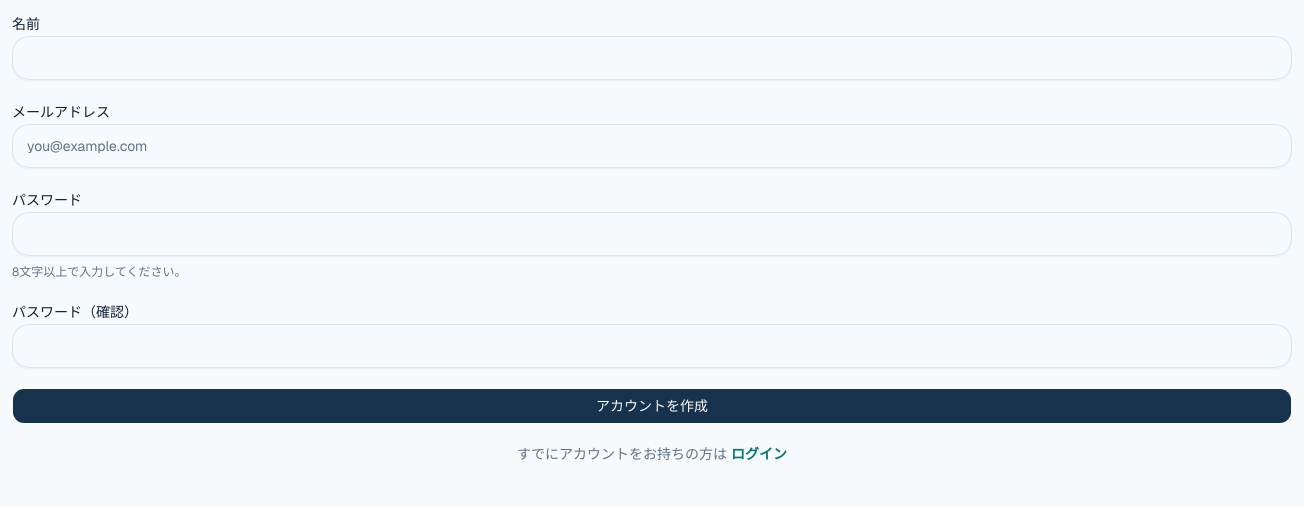
Test: RegisterForm › APIがバリデーションエラーを返した場合_フォームへエラーを表示すること
Type "Test User" into the field labelled "名前" at (652,58), box [12,36,1292,80]
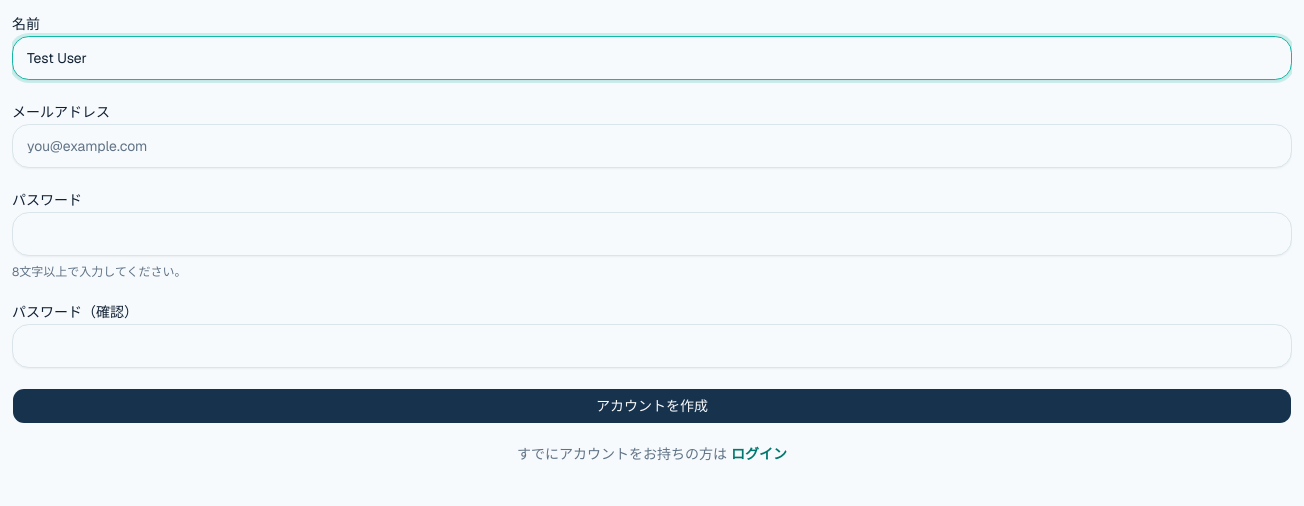
Type "user@example.com" into the field labelled "メールアドレス" at (652,146), box [12,124,1292,168]
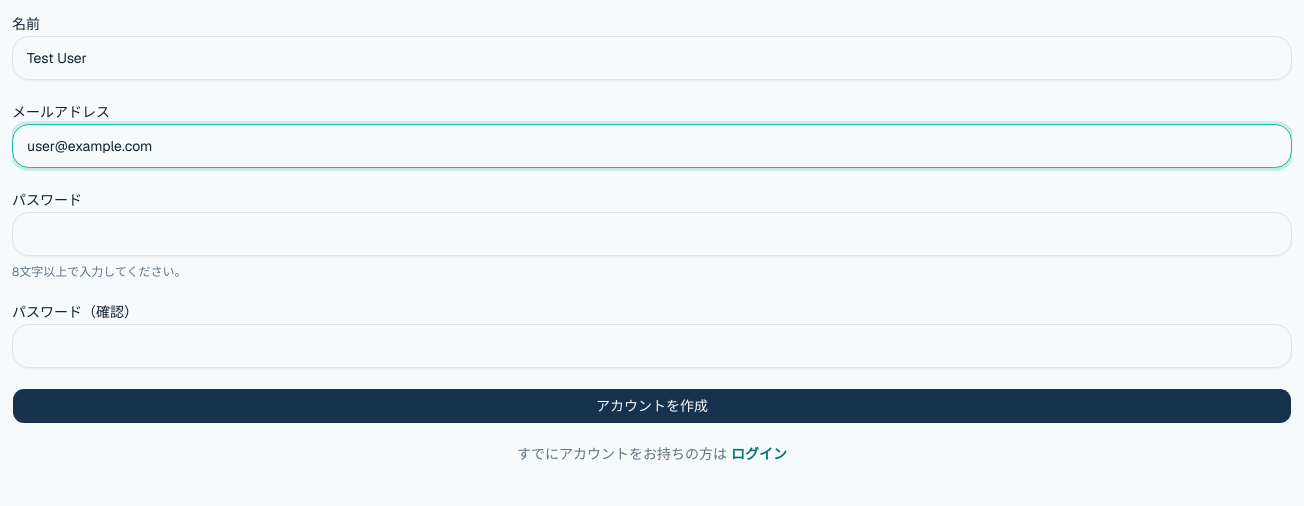
Type "password123" into the password field labelled "パスワード" at (652,234), box [12,212,1292,256]
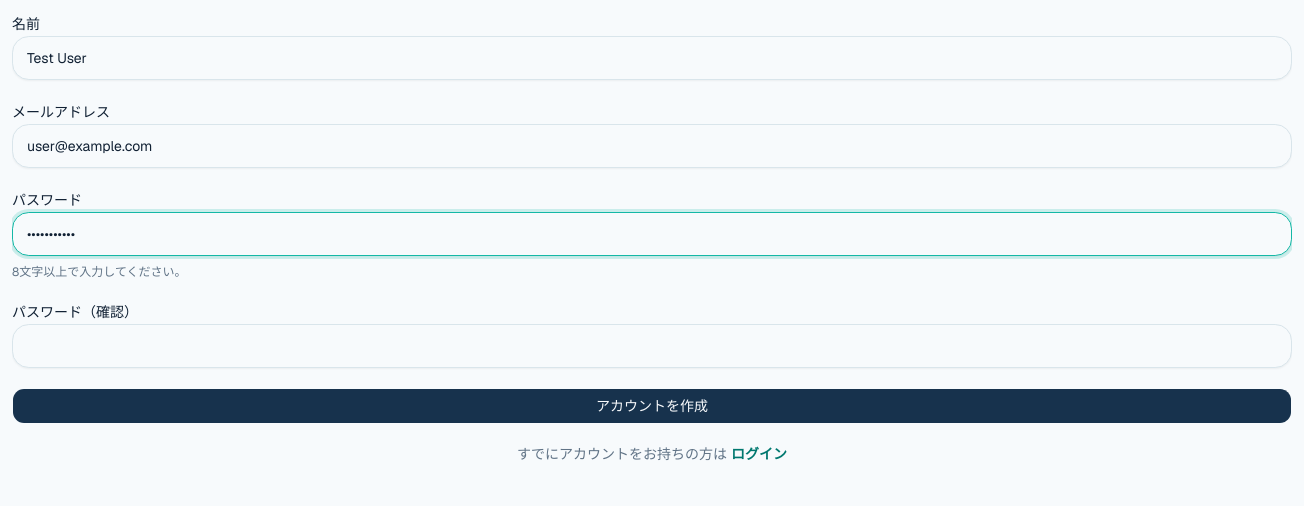
Type "password123" into the password field labelled "パスワード（確認）" at (652,346), box [12,324,1292,368]
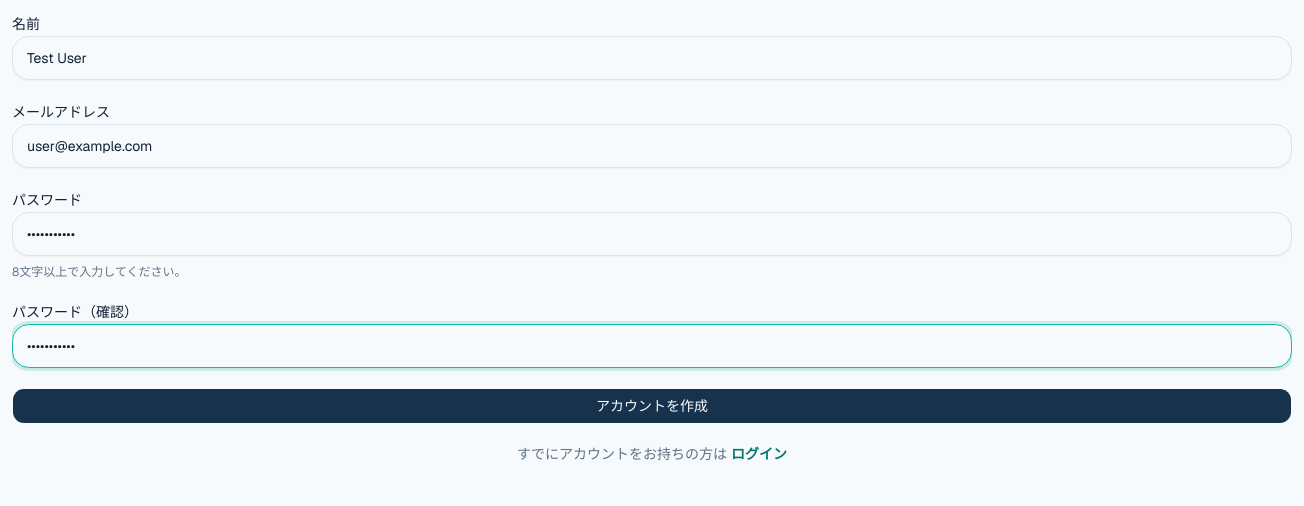
Click the button "アカウントを作成" at (652,406), box [12,388,1292,424]
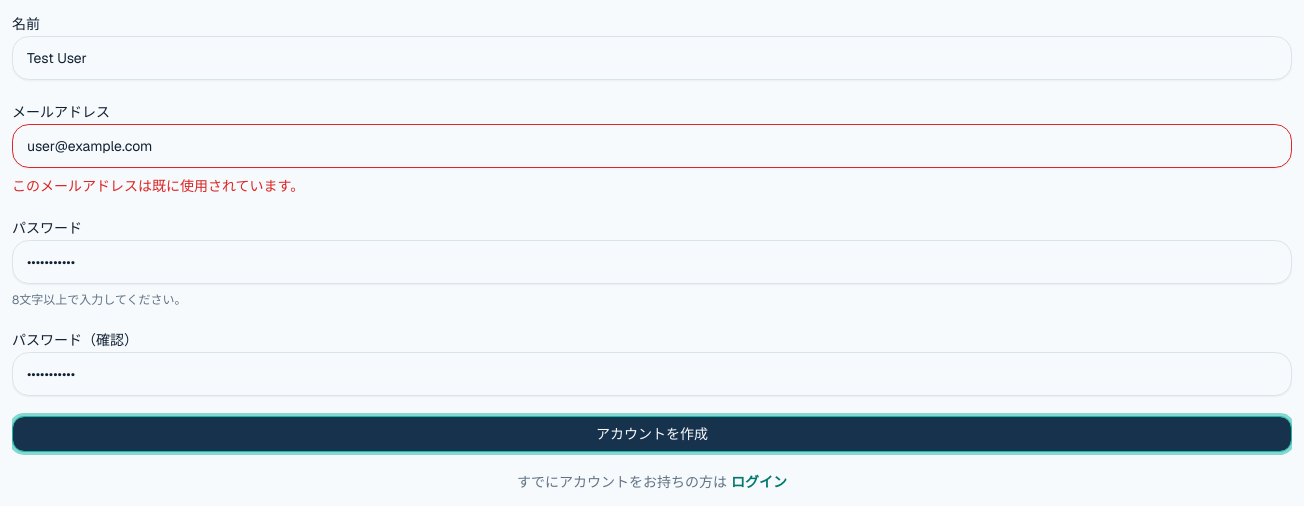
Check: the text "このメールアドレスは既に使用されています。" is shown, box [12,177,304,195]
